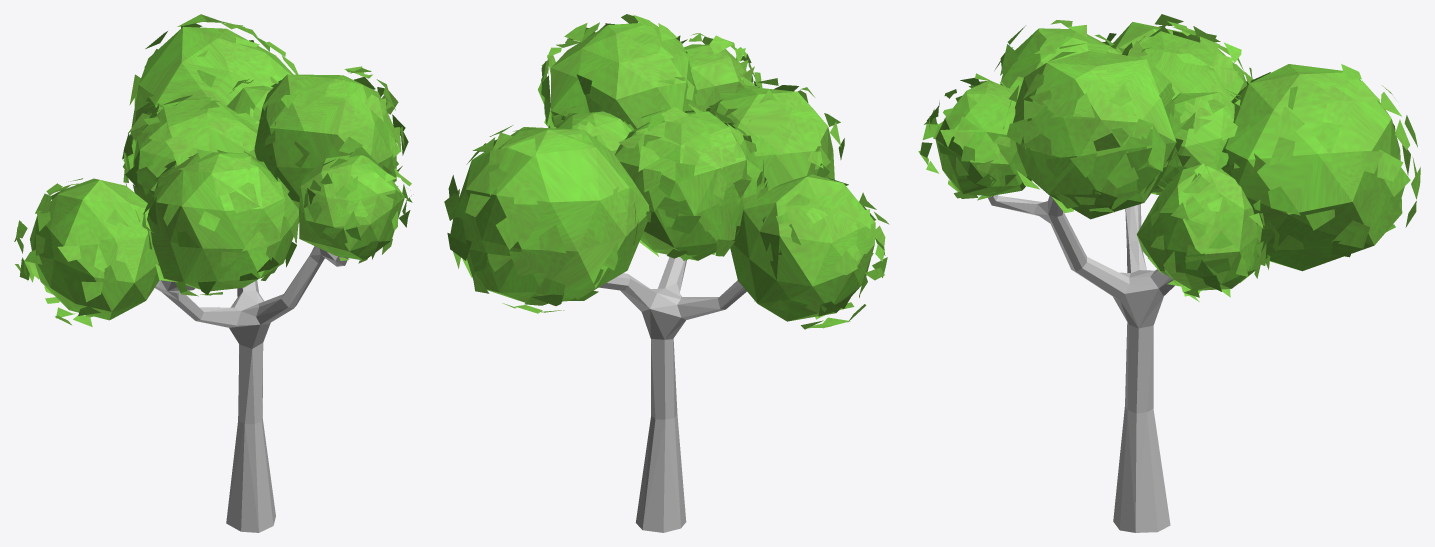
The model's file is tree.fbx.
3 views of the same model, side by side, from view 1: azimuth 30°, elevation 25°; view 2: azimuth 150°, elevation 25°; view 3: azimuth 270°, elevation 25° (orthographic). The views are drawn at different scales.
Visible parts, largest first — view 1: Tree; view 2: Tree; view 3: Tree.
Part boxes in pixels (x1,y1,x2,y2): Tree: [14, 14, 413, 532]; Tree: [444, 14, 889, 532]; Tree: [918, 14, 1420, 532].
Bounding box in the file's own units: 733 × 857 × 776.
